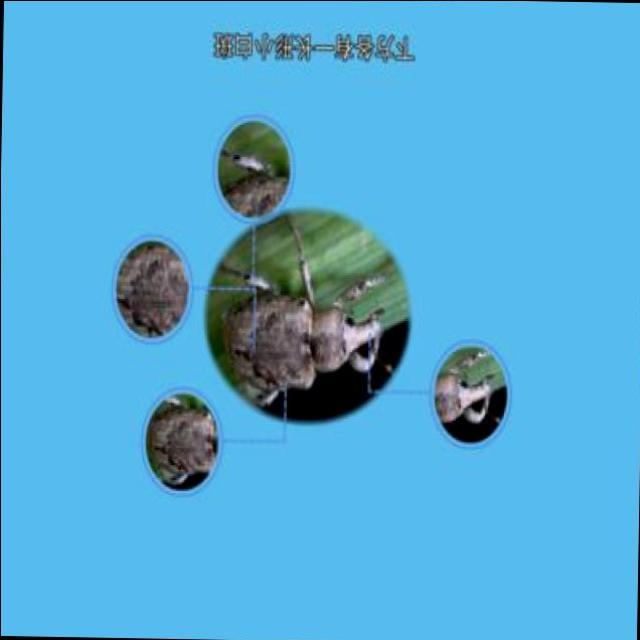ricebug: (206, 212, 384, 407)
